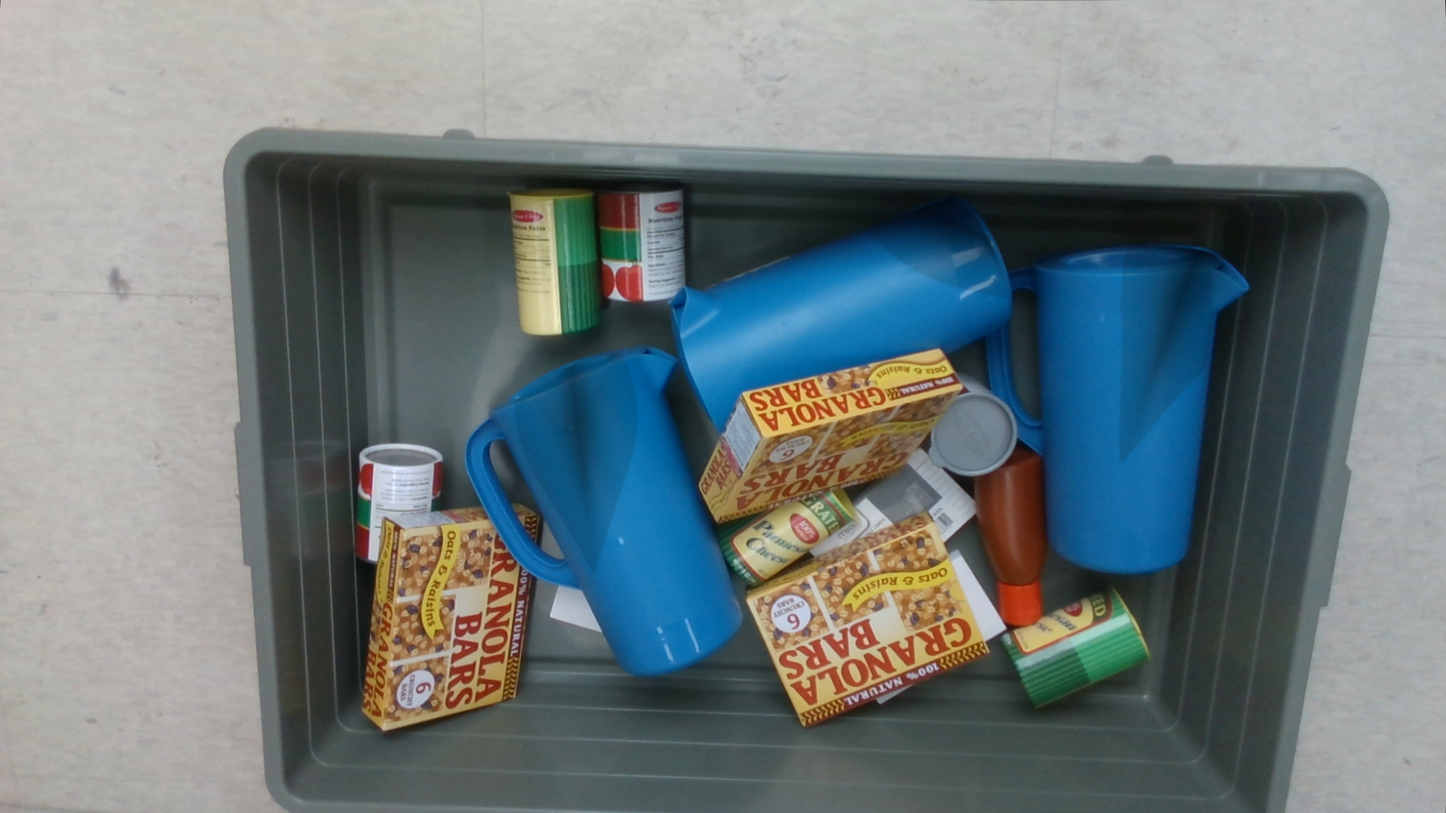defect: (1119, 244, 1246, 462), (515, 352, 638, 573), (867, 196, 1008, 298)
